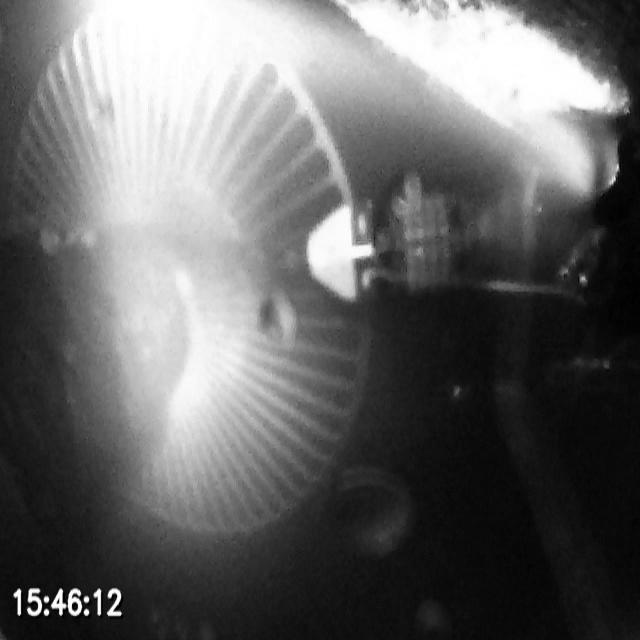head: (306, 192, 476, 304)
